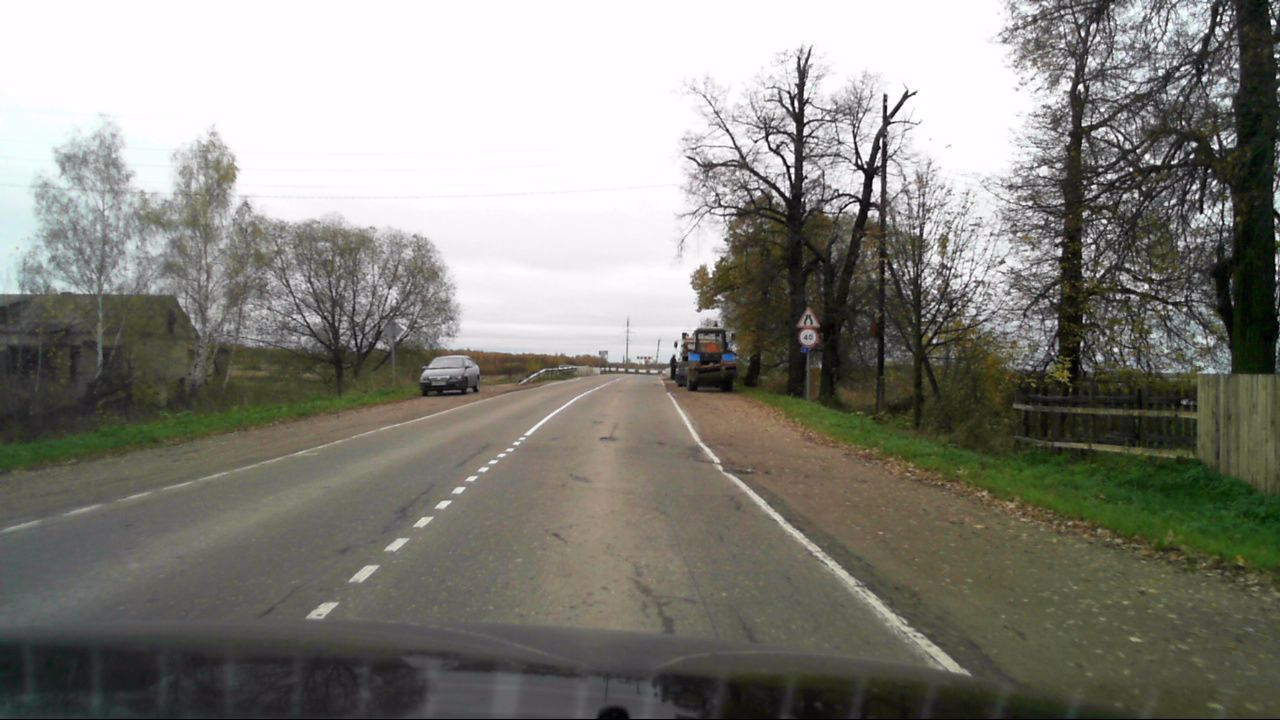speed_warning_40: (798, 329, 817, 346)
